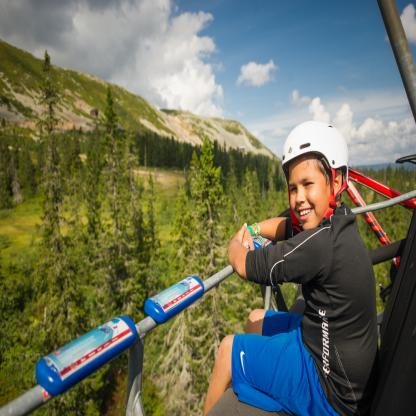Helmet: (285, 122, 354, 232)
